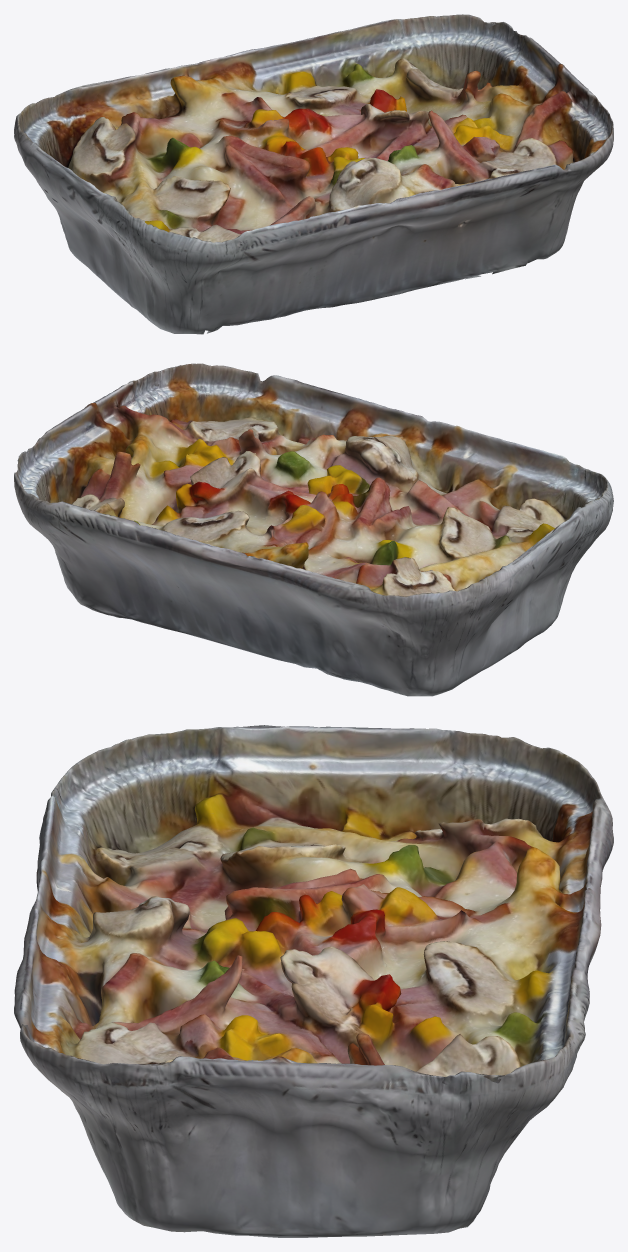
The model's file is special.VIJE.k.m.glb.
3 views of the same model, one above another, from view 1: azimuth 30°, elevation 25°; view 2: azimuth 150°, elevation 25°; view 3: azimuth 270°, elevation 25° (orthographic). The views are drawn at different scales.
Parts seen in each view (by area): view 1: 3DModel.001; view 2: 3DModel.001; view 3: 3DModel.001.
Part boxes in pixels (x1,y1,x2,y2): 3DModel.001: [14, 14, 613, 334]; 3DModel.001: [14, 363, 613, 696]; 3DModel.001: [14, 725, 613, 1237].
Size of the model in its own units: 0.3026 by 0.0833 by 0.2169.
Materials: 1 (1 with a texture image).
